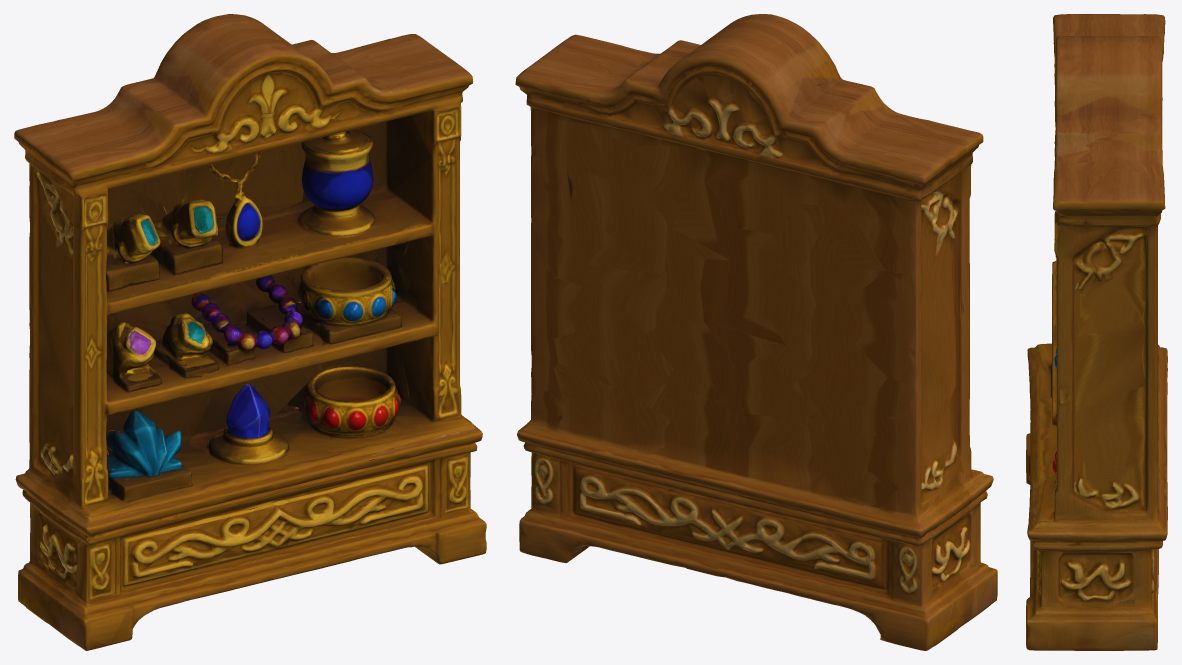
File: dwarven_jewel_store_LOD.fbx
The picture shows the model from 3 angles, left to right: view 1: azimuth 30°, elevation 25°; view 2: azimuth 150°, elevation 25°; view 3: azimuth 270°, elevation 25°; orthographic projection. The views are drawn at different scales.
Parts seen in each view (by area): view 1: dwarven_jewel_store_LOD0; view 2: dwarven_jewel_store_LOD0; view 3: dwarven_jewel_store_LOD0.
Boxes of the visible parts, x1,y1,x2,y2 form: dwarven_jewel_store_LOD0: (14,14,486,650); dwarven_jewel_store_LOD0: (515,14,997,650); dwarven_jewel_store_LOD0: (1026,14,1167,650).
Size of what is drawn, in the model's own units: 150 by 191 by 47.76.
1 material, 1 textured.
